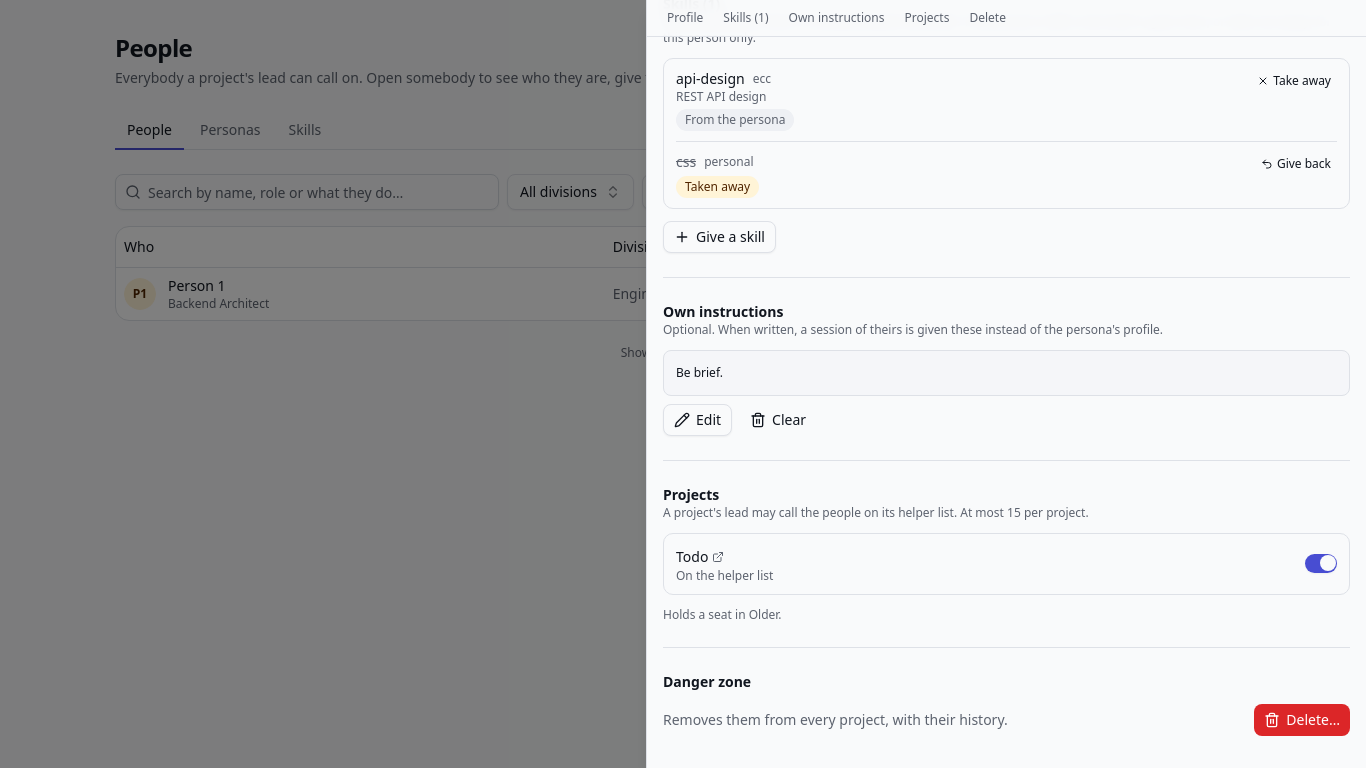
Test: People: one person › names what a delete takes before it deletes, and shows a refusal in the dialog
(page scrolled)
Step 1. Click the button with test id "person-delete" → click(1302, 720), box [1254,704,1350,736]
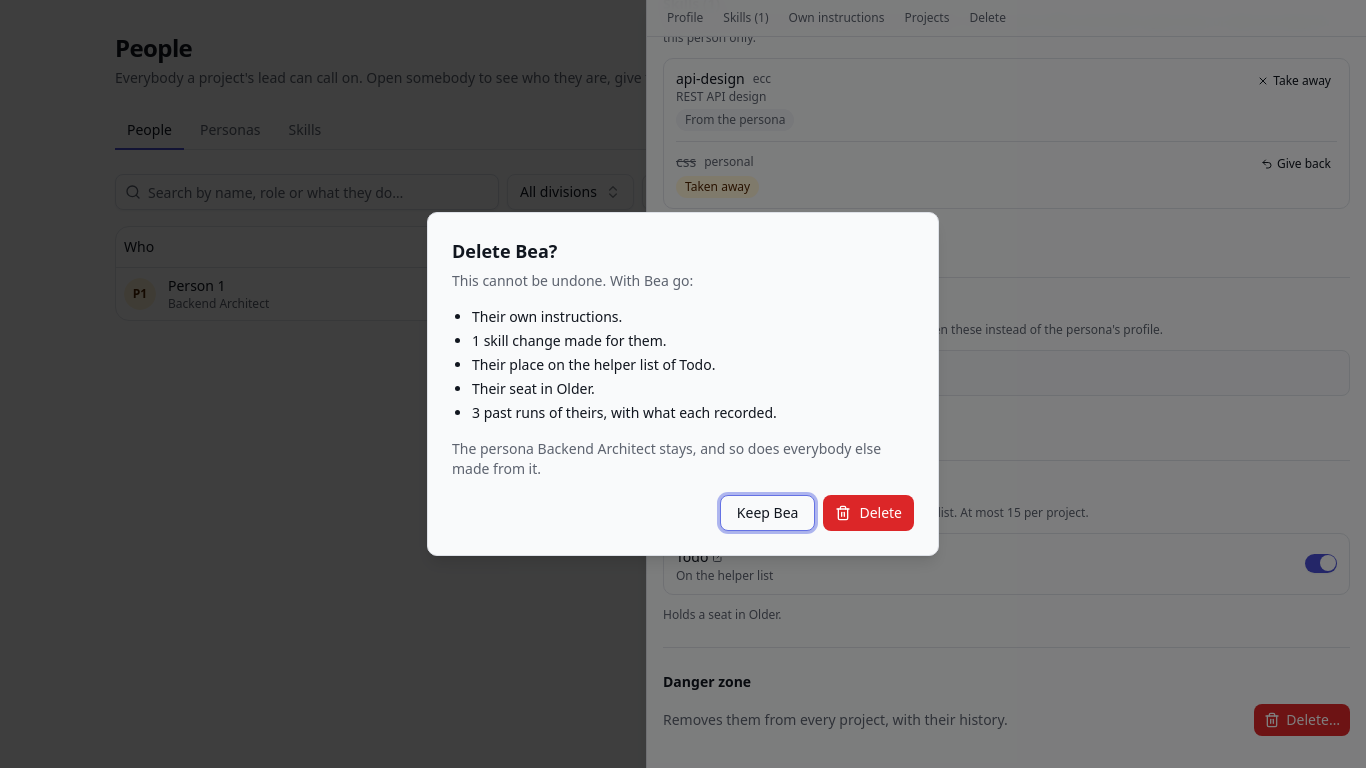
Now the list with test id "delete-person-consequences" shows "Their own instructions.", box [472,307,622,326]
Now the list with test id "delete-person-consequences" shows "1 skill change made for them.", box [472,331,667,350]
Now the list with test id "delete-person-consequences" shows "Their place on the helper list of Todo.", box [472,355,716,374]
Step 2. Click the button with test id "delete-person-confirm" → click(869, 513), box [823,495,914,531]
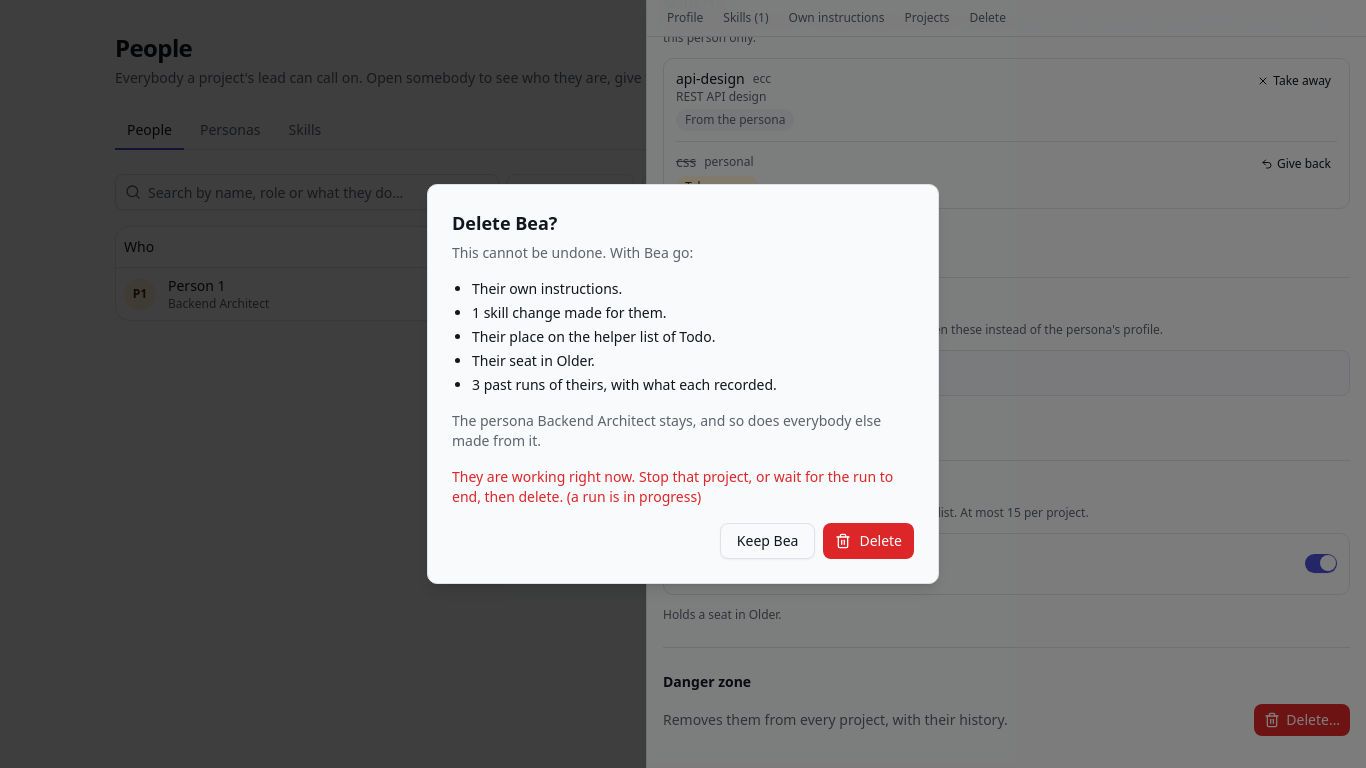
Now the message with test id "delete-person-error" shows "They are working right now", box [452,467,893,506]
Step 3. Click the button with test id "delete-person-confirm" → click(869, 541), box [823,523,914,559]
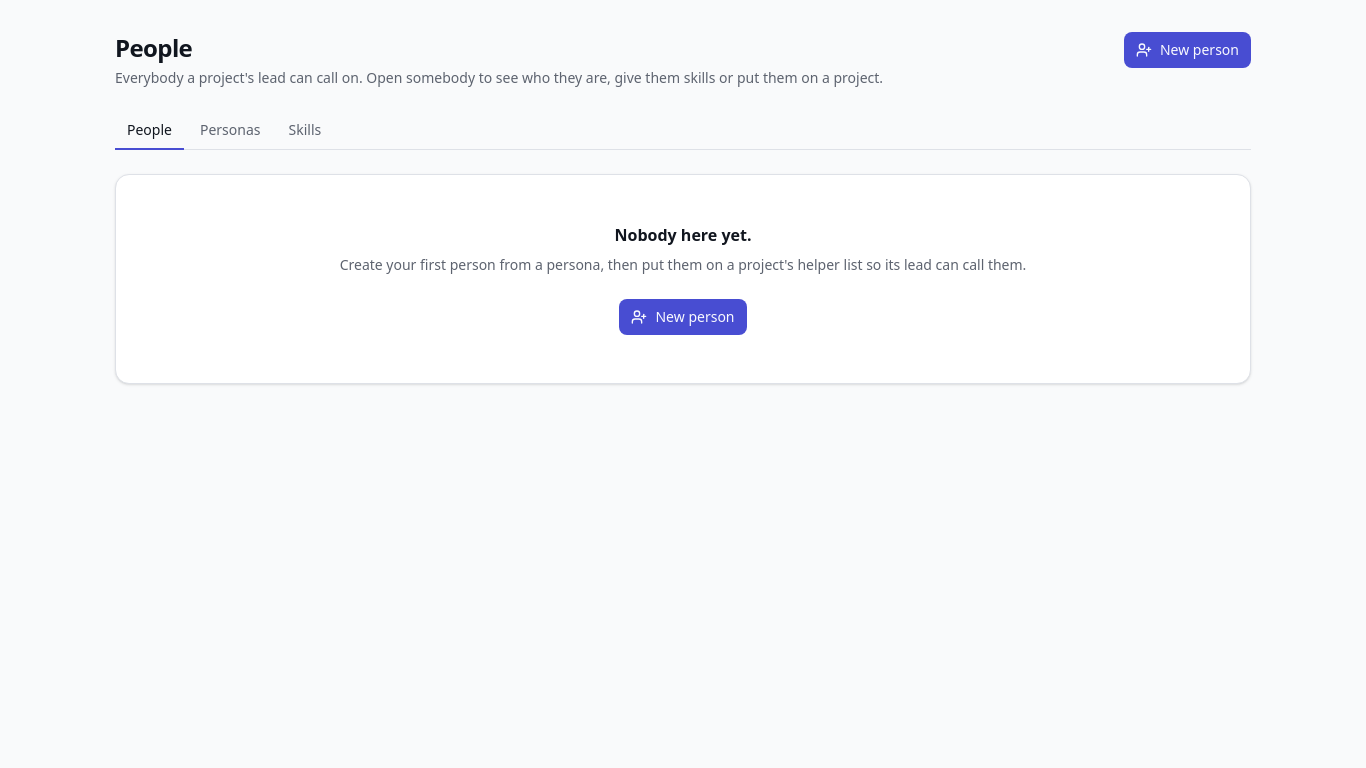
Now the dialog with test id "person-sheet" is gone
